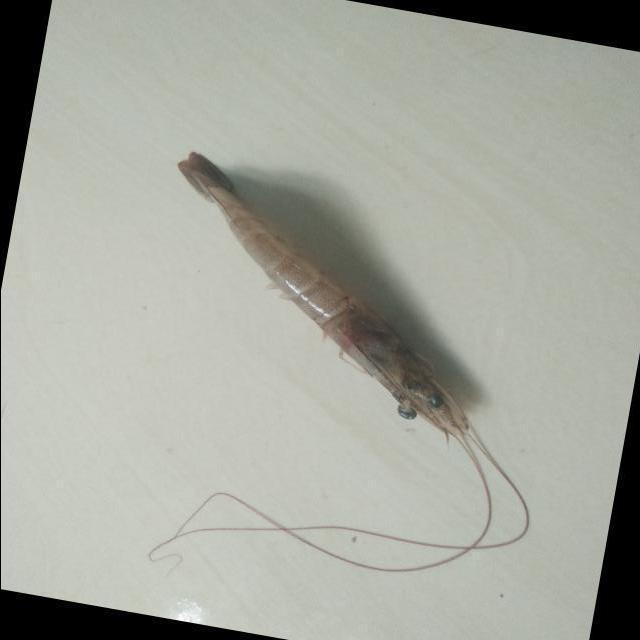shrimp: (176, 151, 468, 436)
